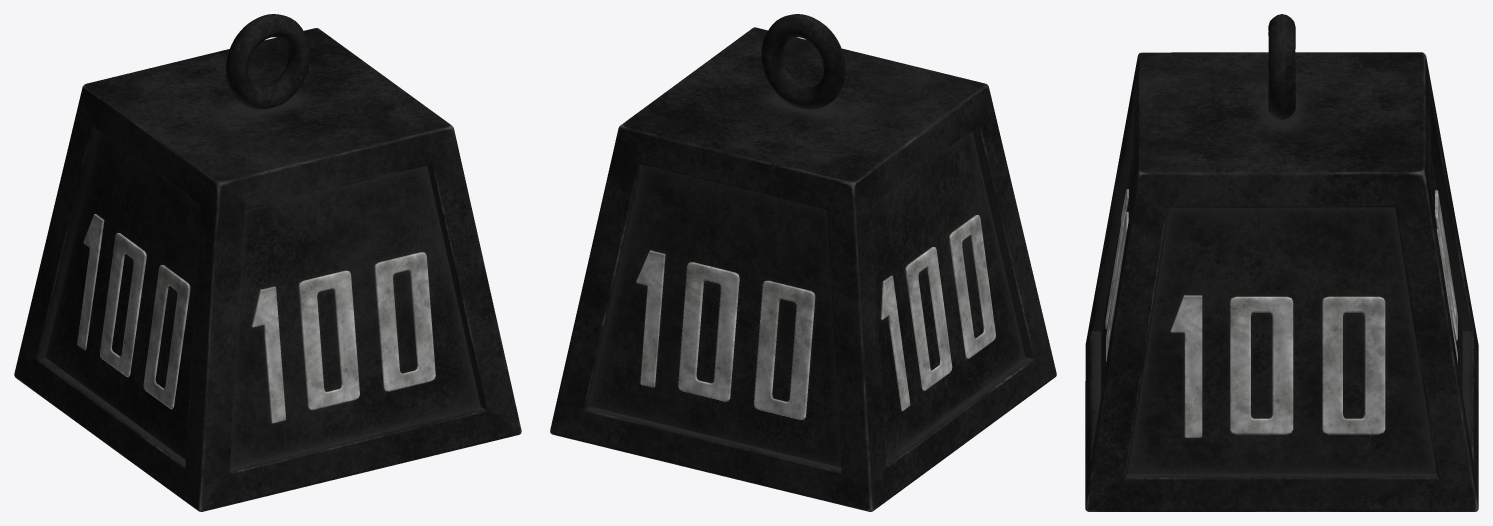
Rendered from 100_ton_weight.fbx.
3 renders of one model, left to right at view 1: azimuth 30°, elevation 25°; view 2: azimuth 150°, elevation 25°; view 3: azimuth 270°, elevation 25°, orthographic. The views are drawn at different scales.
Visible parts, largest first — view 1: weight.1_1; view 2: weight.1_1; view 3: weight.1_1.
Boxes of the visible parts, <box> form: weight.1_1: <box>14,14,521,511</box>; weight.1_1: <box>550,14,1056,511</box>; weight.1_1: <box>1085,14,1478,511</box>.
Bounding box in the file's own units: 3.43 × 3.95 × 3.42.
Materials: 1 (1 with a texture image).
